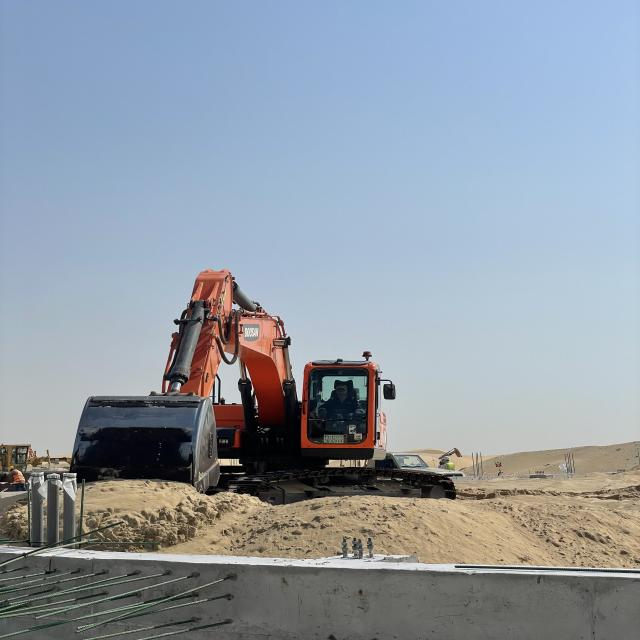Excavator: (66, 271, 459, 502)
